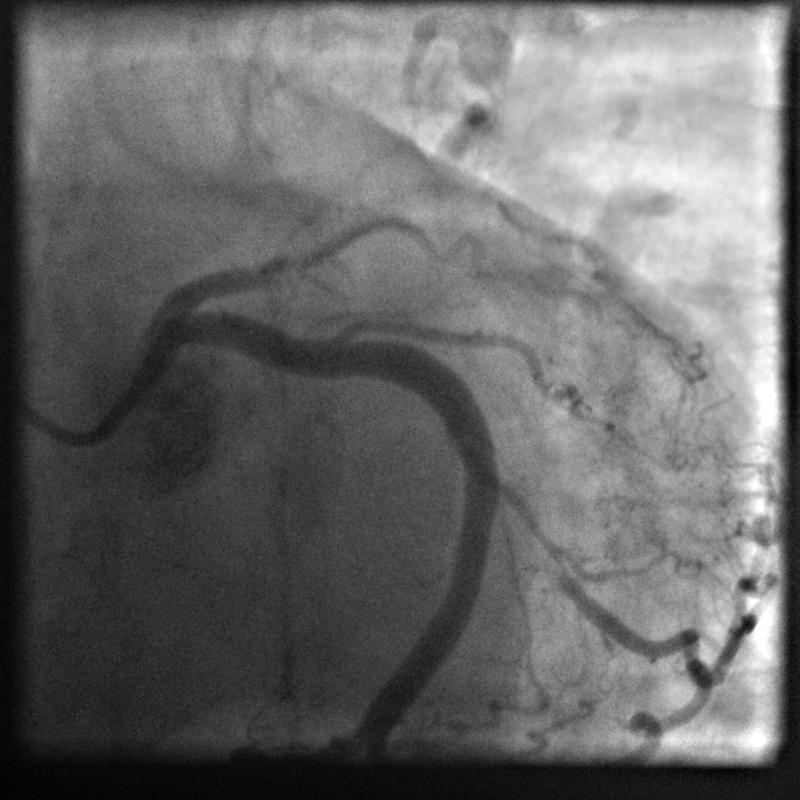Stenosis: (487, 457, 572, 581)
